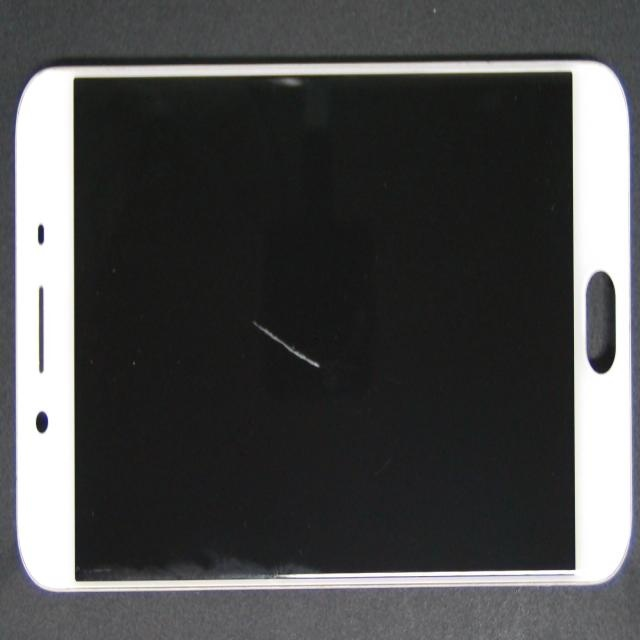scratch: (115, 109, 379, 479)
